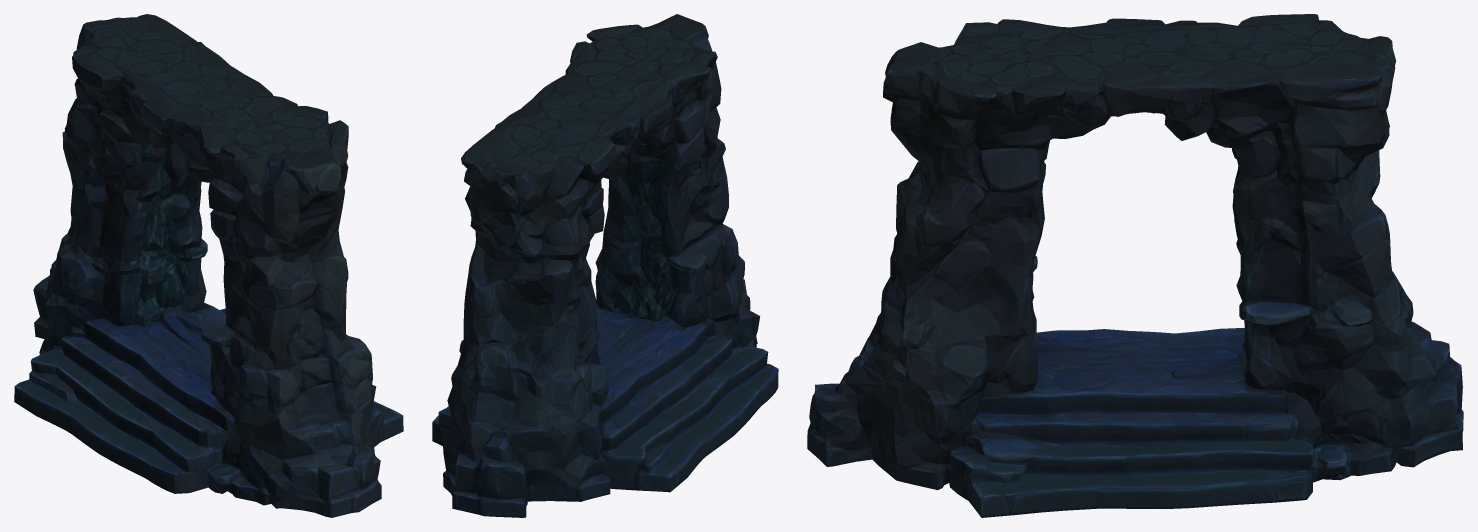
File: CaveEntrace.fbx
3 views of the same model, side by side, from view 1: azimuth 30°, elevation 25°; view 2: azimuth 150°, elevation 25°; view 3: azimuth 270°, elevation 25° (orthographic). The views are drawn at different scales.
Visible parts, largest first — view 1: temp; view 2: temp; view 3: temp.
Part boxes in pixels (left/top/right/bottom): temp: left=14, top=14, right=403, bottom=517; temp: left=432, top=14, right=778, bottom=517; temp: left=807, top=14, right=1463, bottom=517.
Size of the model in its own units: 112 by 134 by 200.
1 material, 1 textured.
